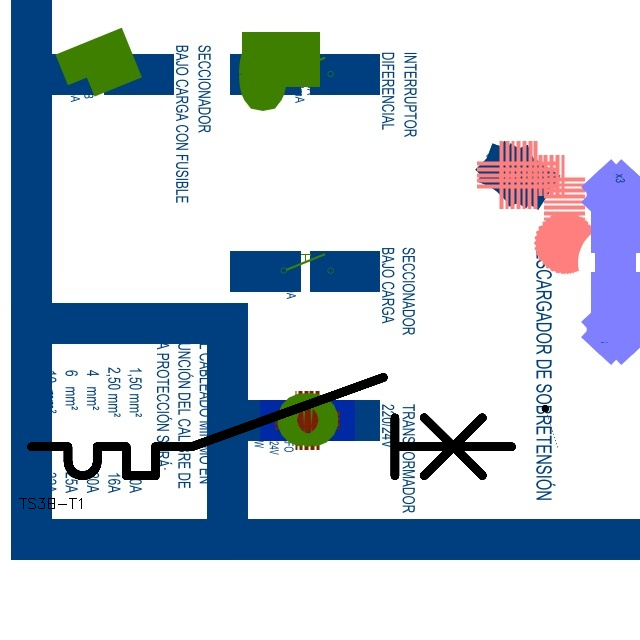interruptor_termomagnetico: (19, 365, 523, 488)
